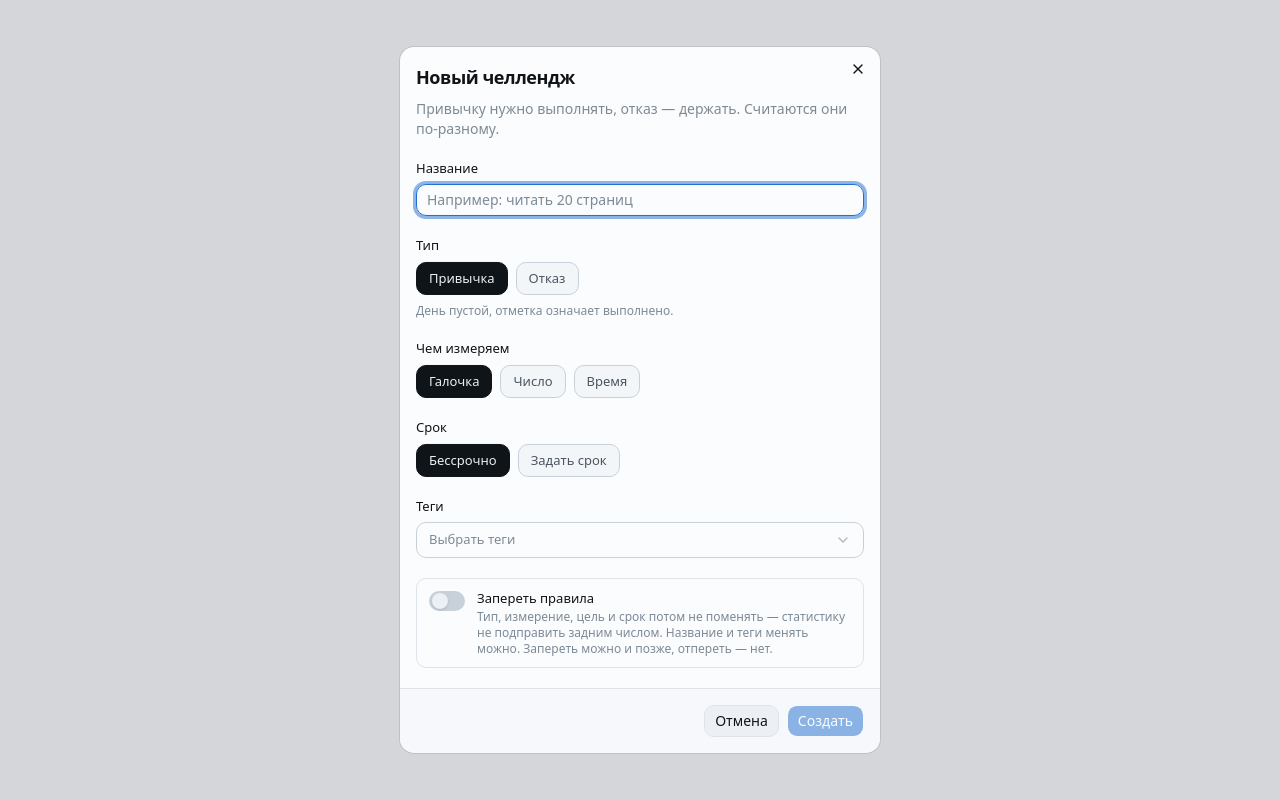
Scenario: форма нового челленджа › для числа появляются цель и единица
Type "Шаги" into the field labelled "Название". click: (640, 200)
box: [416,184,864,216]
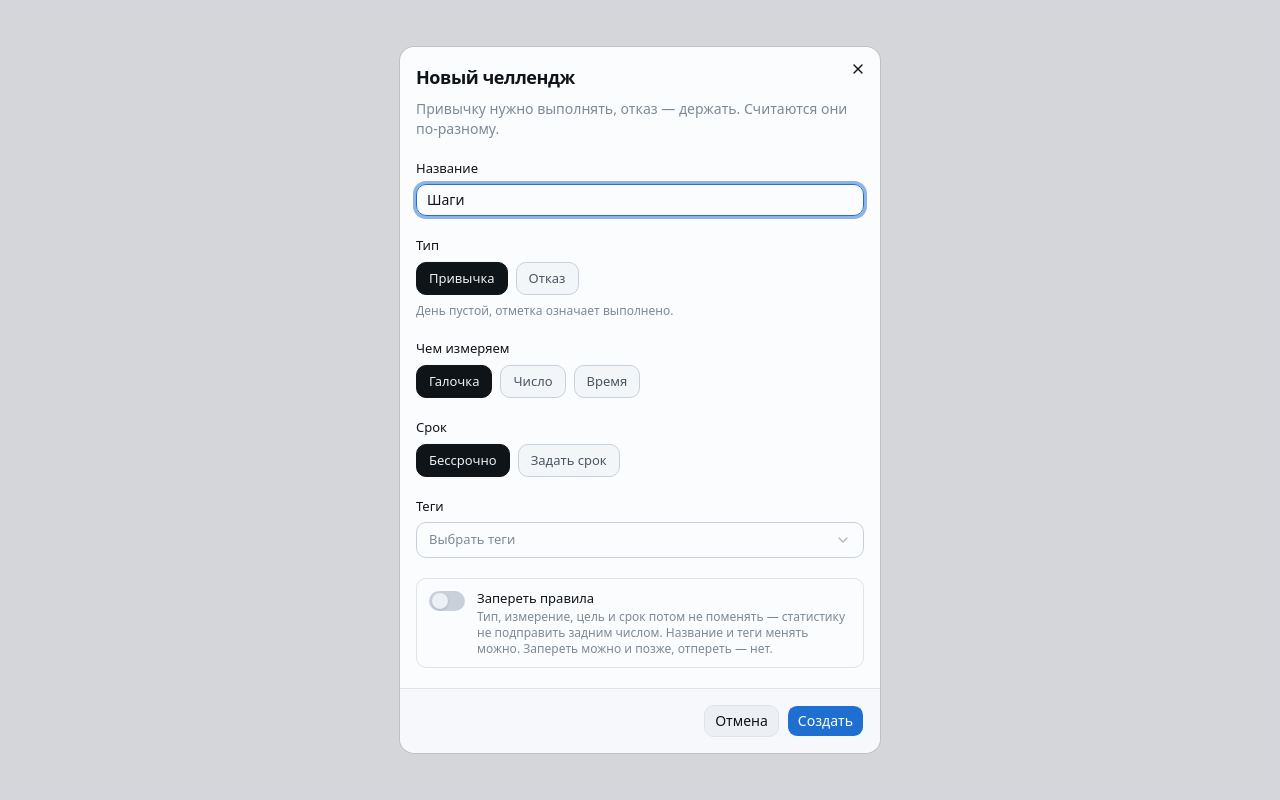
Click the button "Число". click: (533, 382)
box: [500,365,566,398]
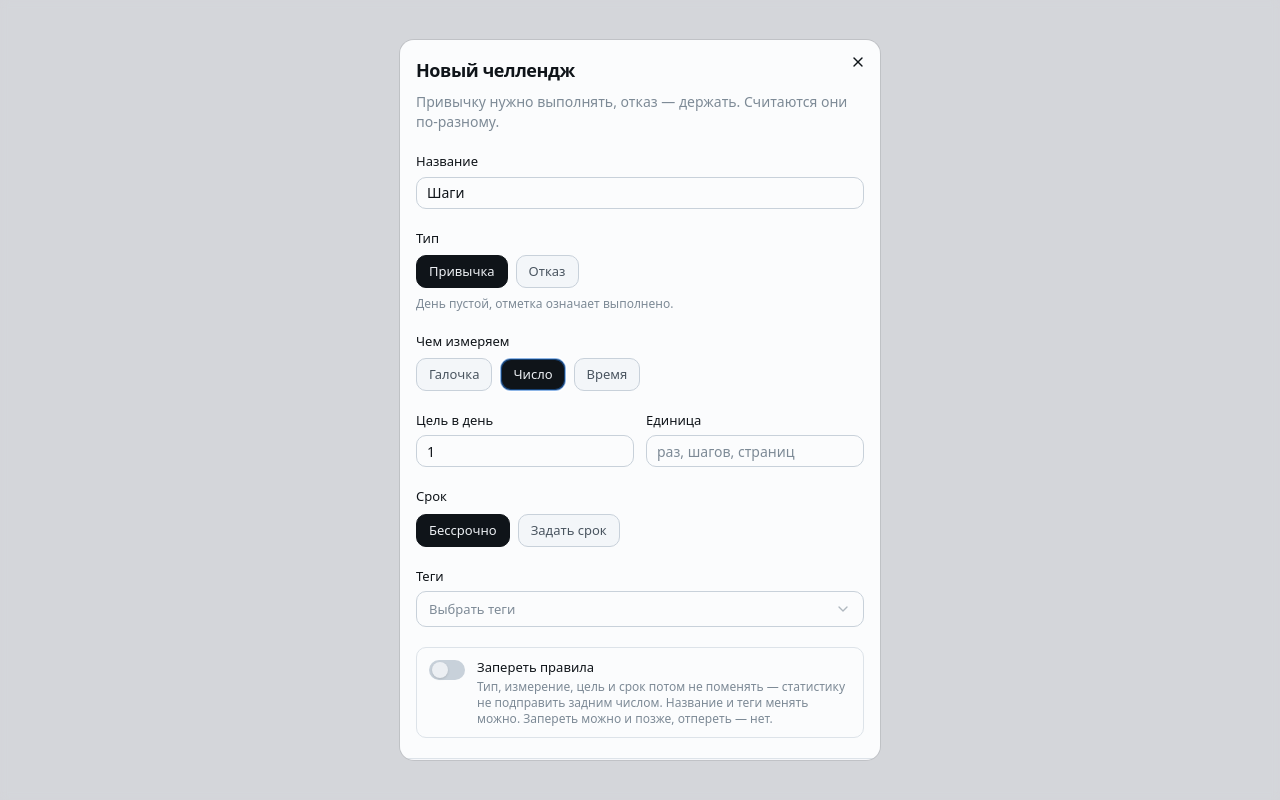
Expected: the field labelled "Цель в день" is shown, [416,435,634,467]
Expected: the field labelled "Единица" is shown, [646,435,864,467]
